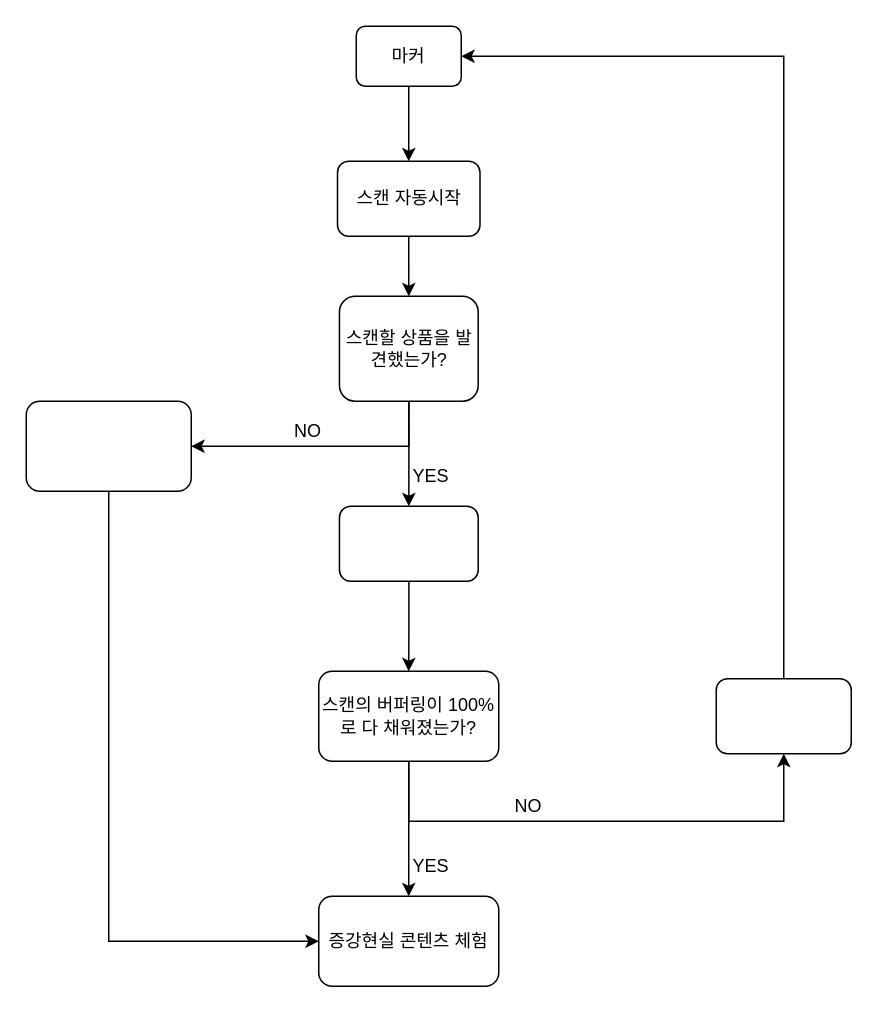
Some shapes in this 878 by 1013 pixel diagram are drawn without their labels. The box of each missing label's shape, as (x1, y1, x2, y2) in pixels:
스캔: (338, 505, 478, 581)
콘텐츠 항목창으로 이동: (25, 400, 191, 491)
콘텐츠에서 나가기: (715, 677, 851, 754)
